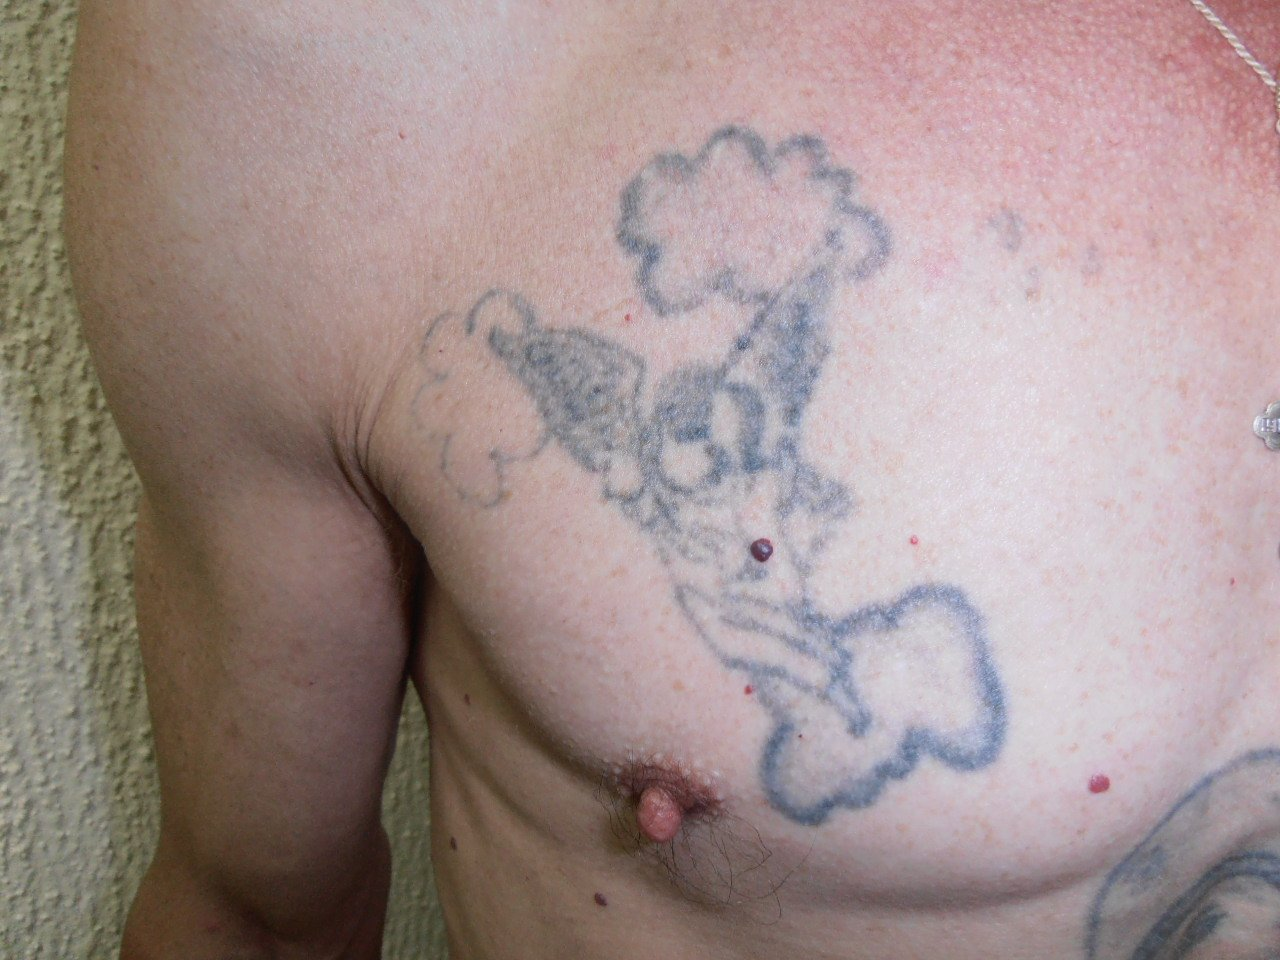tatu1_angel: (442, 249, 1033, 802)
